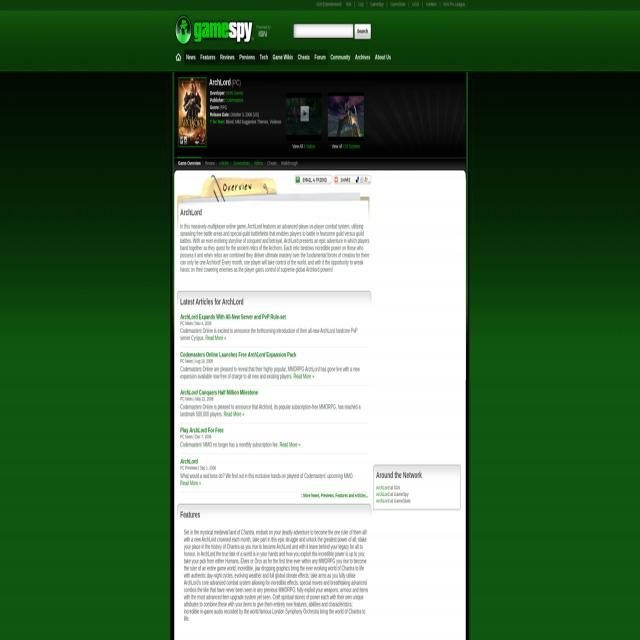button: (178, 78, 206, 146), (286, 92, 322, 141), (328, 92, 364, 141), (295, 175, 333, 184), (334, 175, 372, 184), (300, 106, 310, 122)
field: (293, 23, 353, 39)
